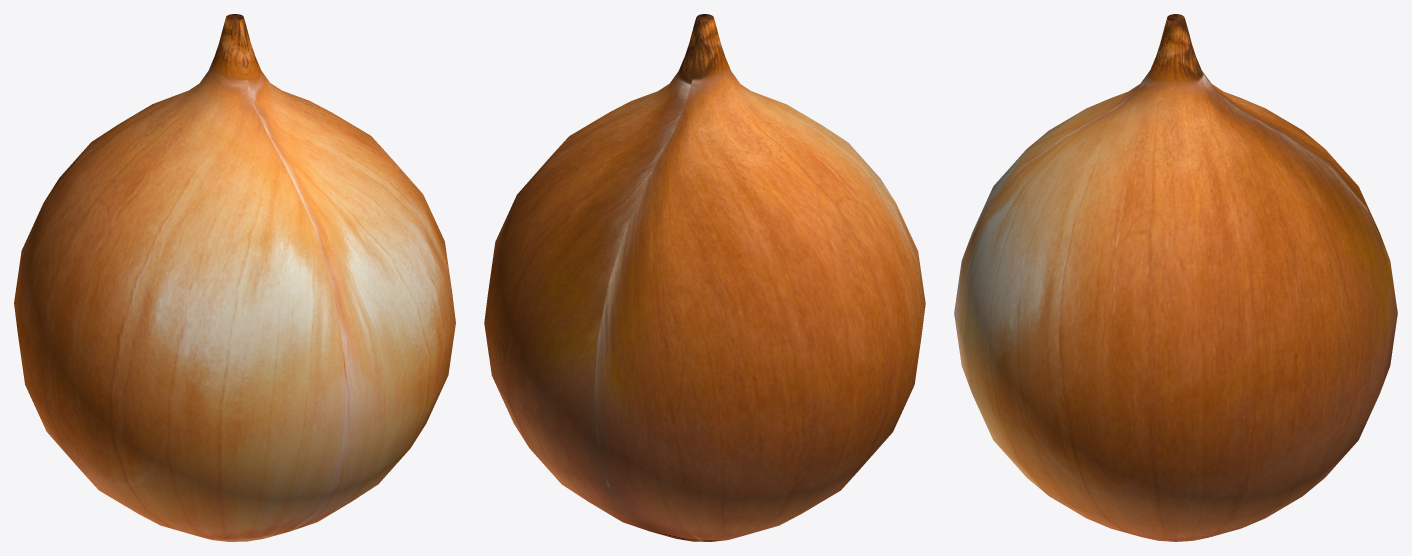
Rendered from onion.fbx.
The picture shows the model from 3 angles, left to right: view 1: azimuth 30°, elevation 25°; view 2: azimuth 150°, elevation 25°; view 3: azimuth 270°, elevation 25°; orthographic projection.
Parts seen in each view (by area): view 1: Sphere; view 2: Sphere; view 3: Sphere.
Boxes of the visible parts, x1,y1,x2,y2 form: Sphere: (14, 14, 455, 541); Sphere: (484, 14, 925, 541); Sphere: (954, 14, 1397, 541).
Bounding box in the file's own units: 196 × 247 × 196.
